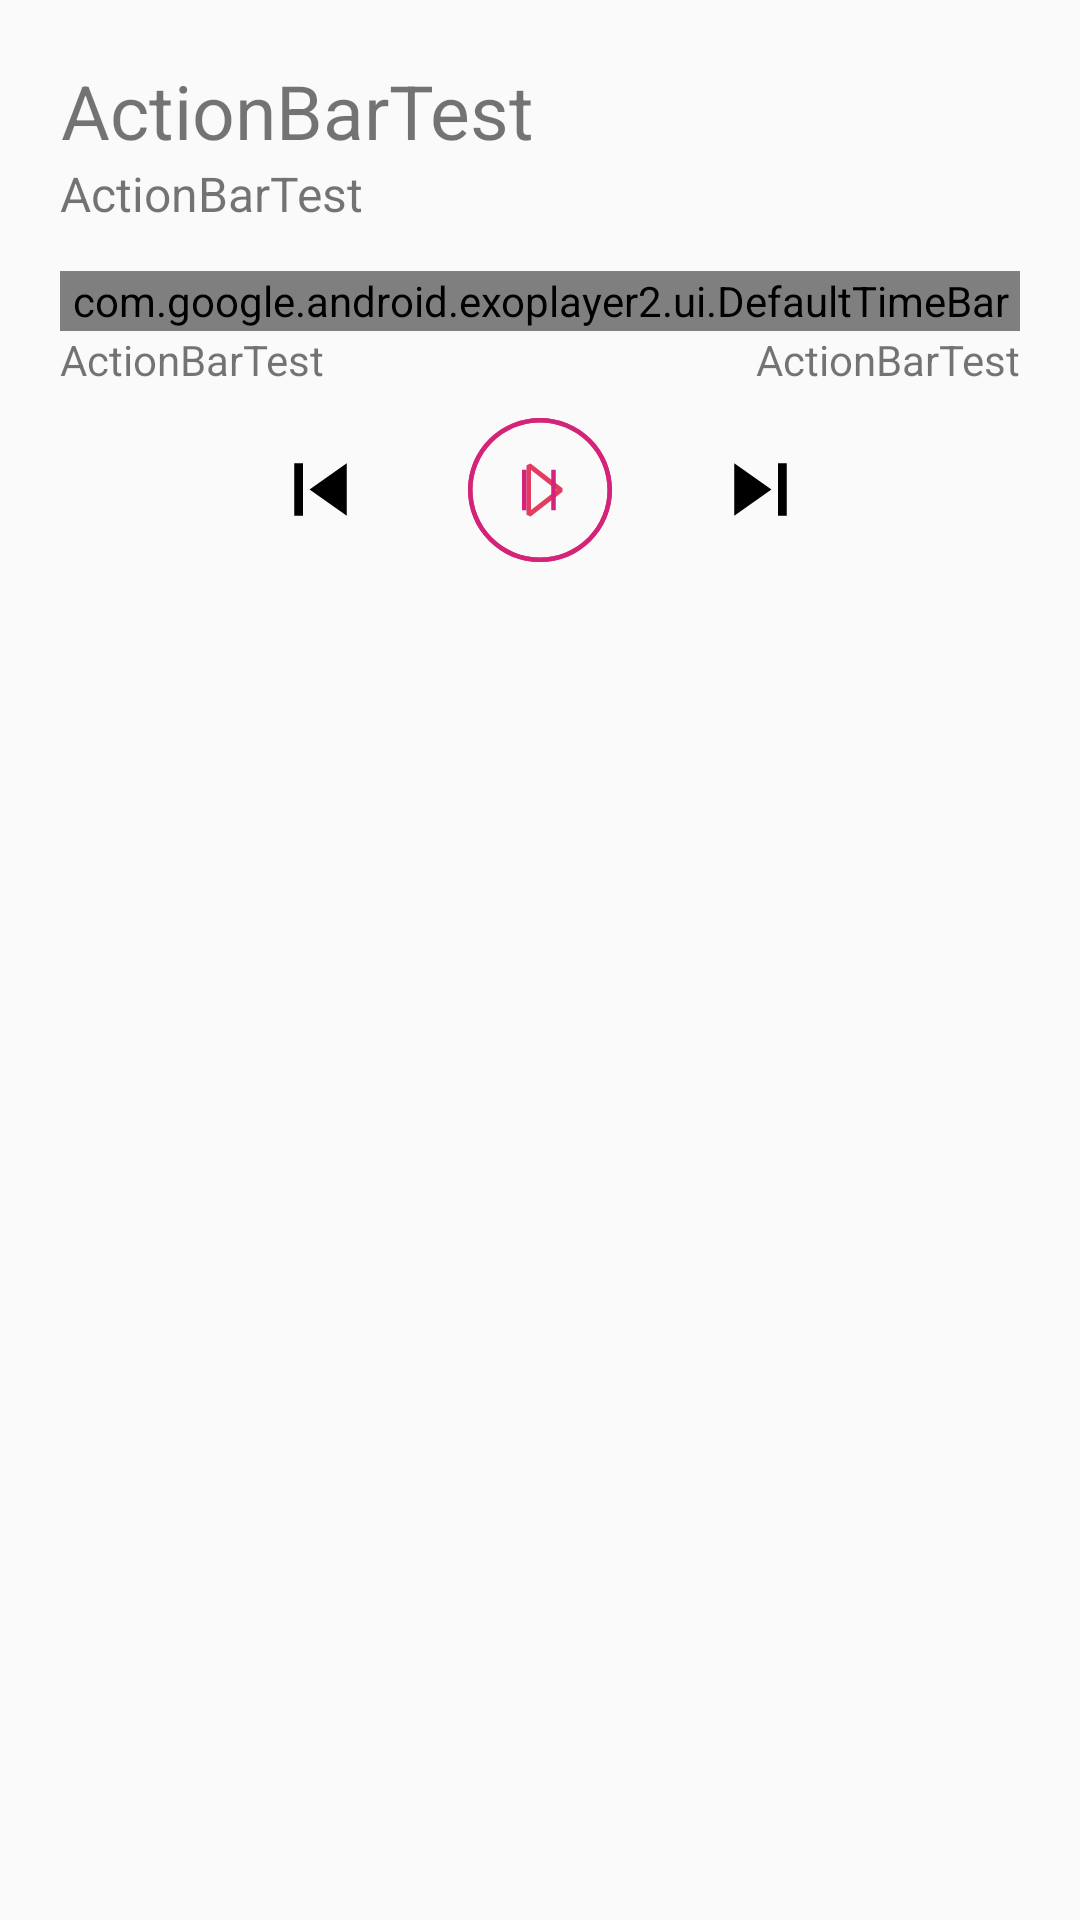

Point at icon controls on the screen. Image size 1080x1920, points as [x,y].
skip next: [760,489]
skip previous: [320,489]
